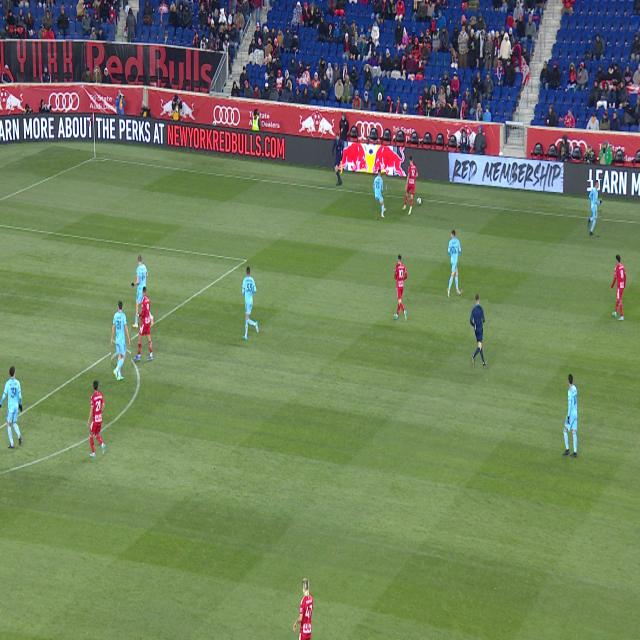football: (417, 198, 422, 205)
player: (0, 366, 23, 448), (111, 300, 131, 380), (87, 380, 106, 457), (135, 286, 153, 361), (563, 374, 578, 457), (131, 255, 148, 328), (293, 578, 313, 640), (242, 267, 259, 339), (610, 255, 626, 321), (394, 254, 408, 322), (402, 156, 418, 215), (448, 230, 461, 299), (587, 181, 602, 236), (374, 170, 386, 218), (149, 311, 154, 327)
referee: (470, 295, 488, 367)
